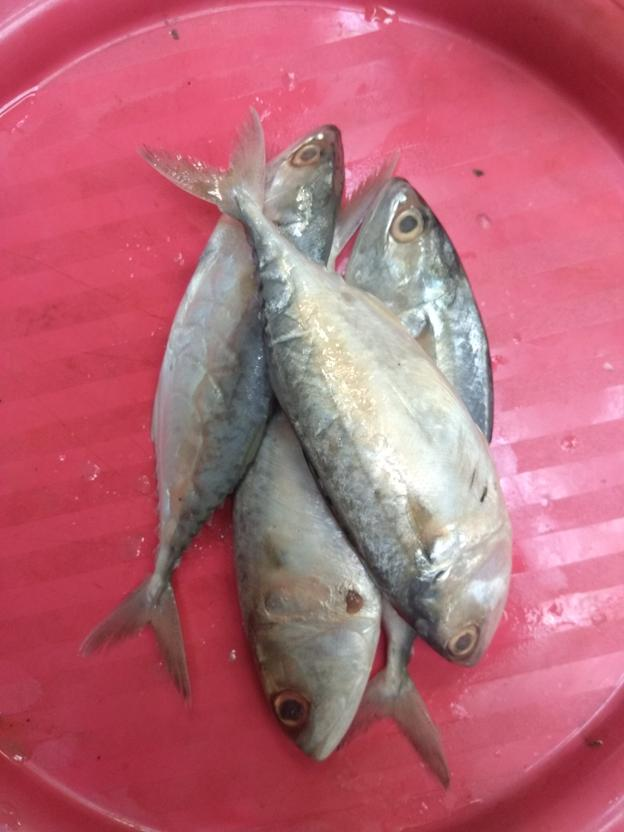Fish head: (249, 617, 377, 763), (346, 174, 461, 308), (421, 538, 515, 667), (264, 124, 346, 231)
Fish tail: (82, 573, 194, 713), (137, 98, 263, 219), (337, 669, 454, 792)
